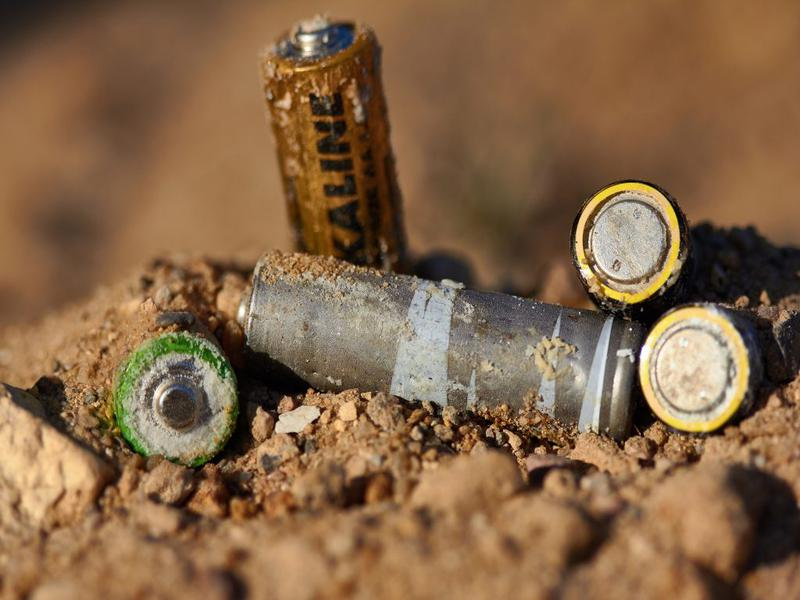battery: (237, 245, 645, 444), (248, 14, 424, 275), (557, 164, 698, 324)
